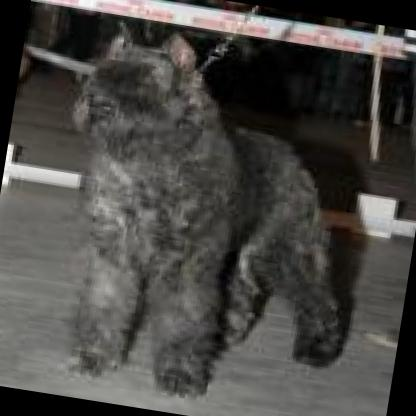Bouvier_des_Flandres: (25, 14, 381, 416)
